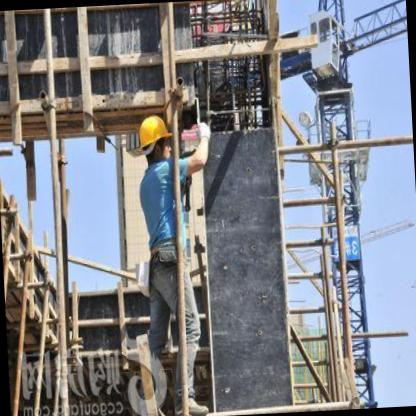helmet: (134, 110, 172, 166)
